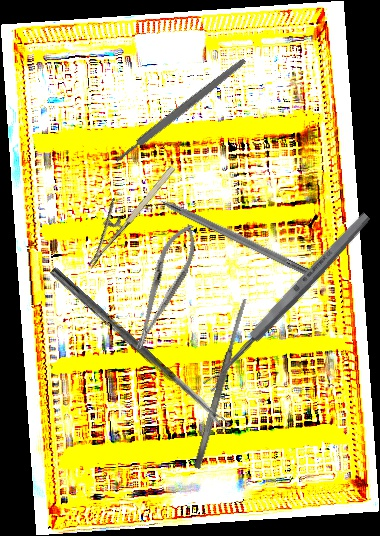Hook Surgical: (137, 184, 319, 281)
Needle Holder: (68, 151, 179, 269), (122, 218, 206, 355)
Scalpel Handle: (113, 56, 248, 165)
Spatula Surgical: (192, 297, 250, 470)
Surgical Spoon: (201, 210, 373, 393), (48, 266, 231, 432)
